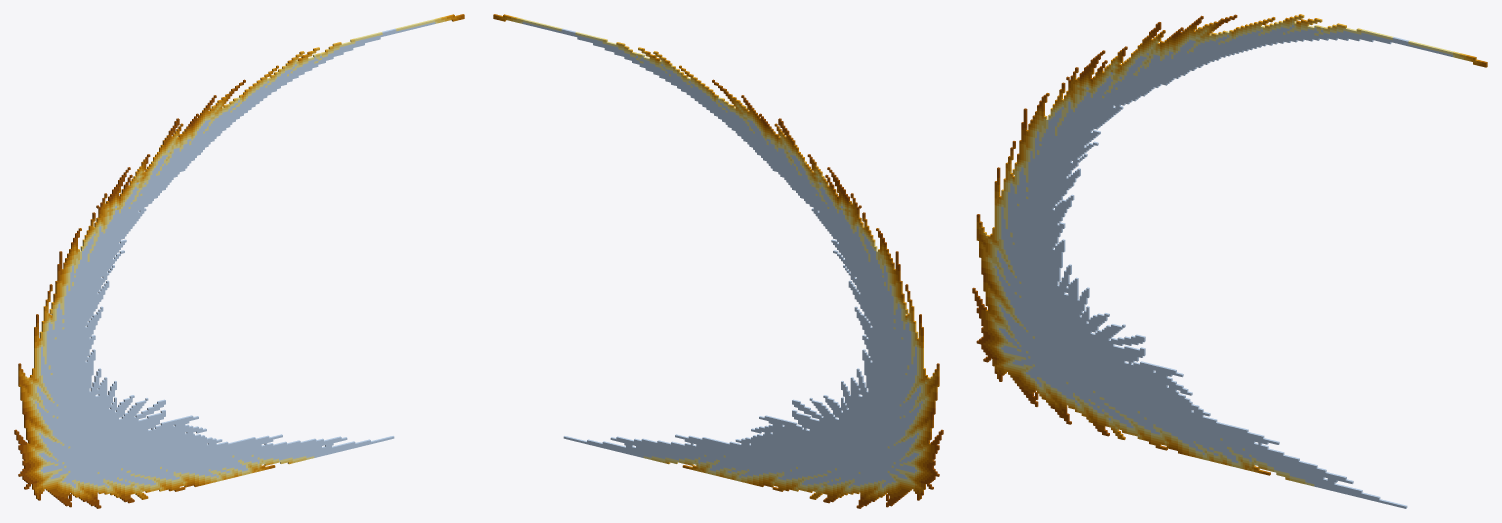
Rendered from Fight_018_3_07_fx.obj.
3 renders of one model, left to right at view 1: azimuth 30°, elevation 25°; view 2: azimuth 150°, elevation 25°; view 3: azimuth 330°, elevation 25°, orthographic. The views are drawn at different scales.
Bounding box in the file's own units: 23 × 20 × 0.1.
1 material, 1 textured.
